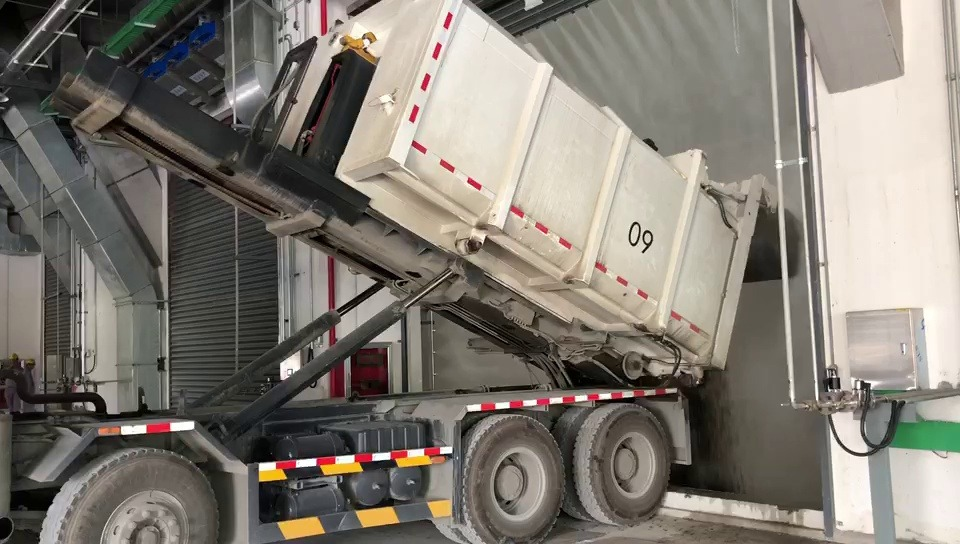truck: (0, 0, 778, 544)
